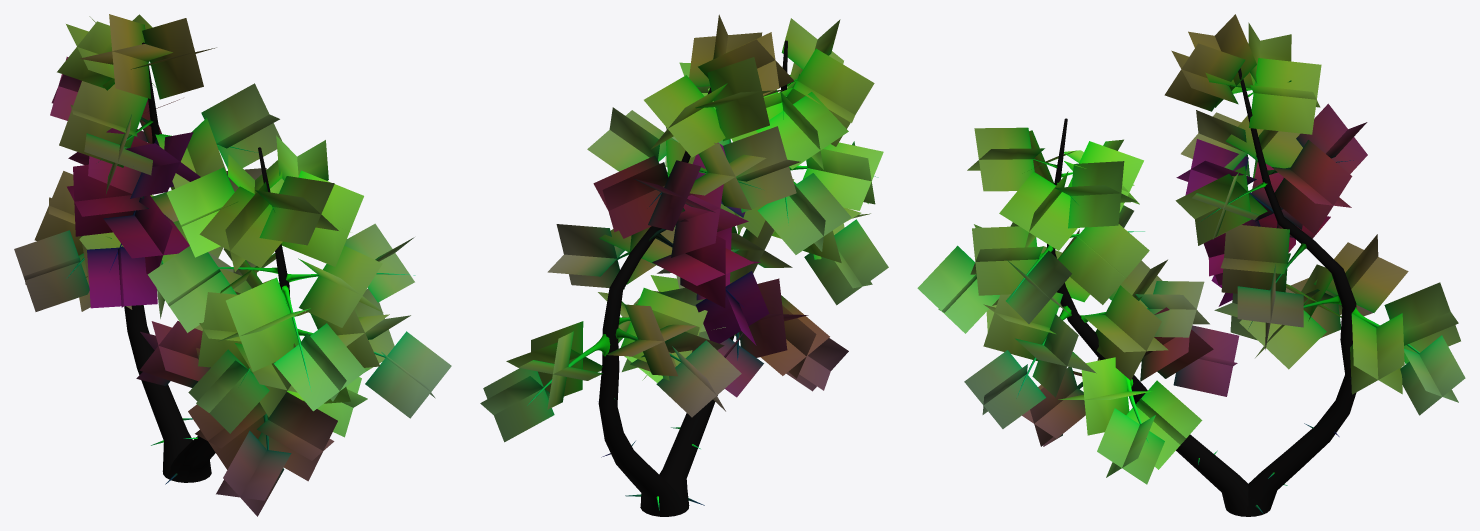
The model's file is URP_P7_Tree_10_LOD_1.fbx.
3 renders of one model, left to right at view 1: azimuth 30°, elevation 25°; view 2: azimuth 150°, elevation 25°; view 3: azimuth 270°, elevation 25°, orthographic. The views are drawn at different scales.
Visible parts, largest first — view 1: Tree_10_LOD_1; view 2: Tree_10_LOD_1; view 3: Tree_10_LOD_1.
Part boxes in pixels (bbox=[...]): Tree_10_LOD_1: bbox=[14, 14, 451, 516]; Tree_10_LOD_1: bbox=[480, 14, 888, 516]; Tree_10_LOD_1: bbox=[917, 14, 1465, 516].
Bounding box in the file's own units: 248 × 469 × 513.
